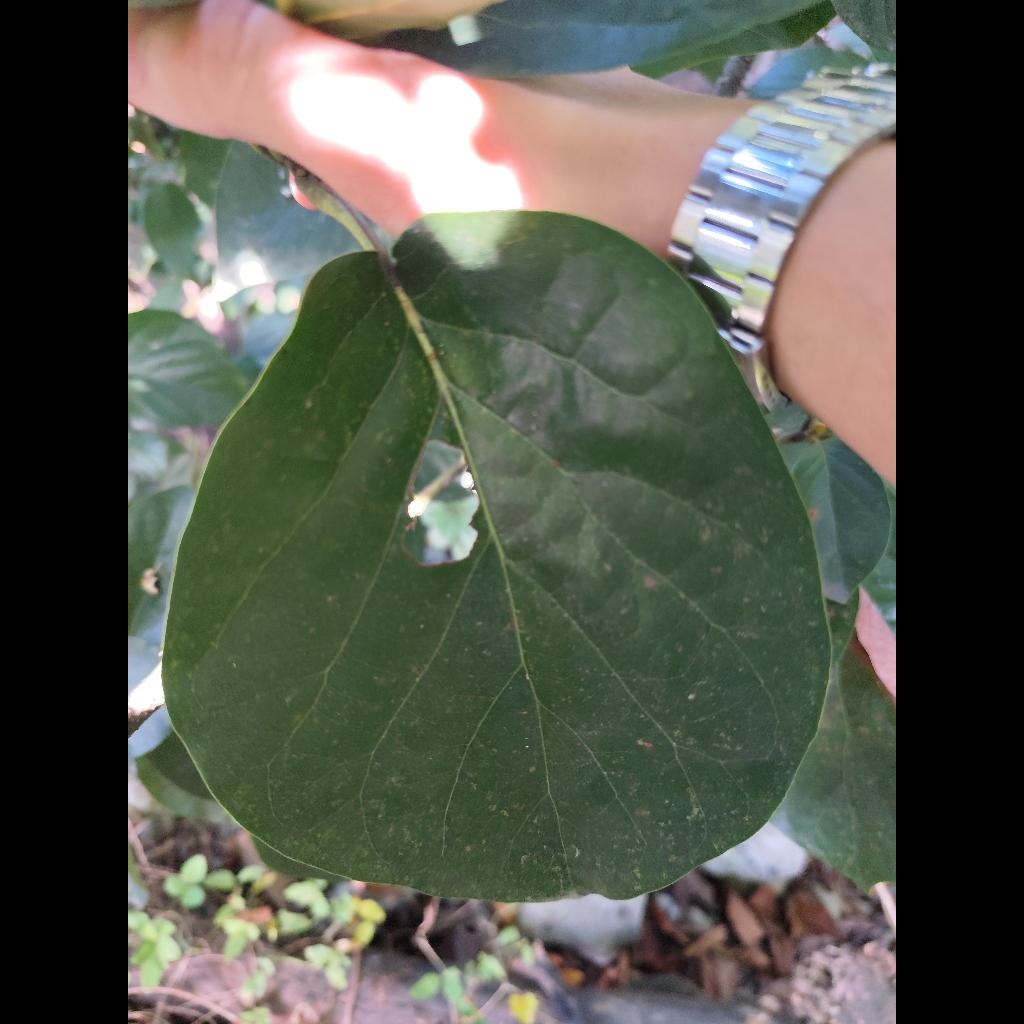plaga: (166, 212, 828, 899)
